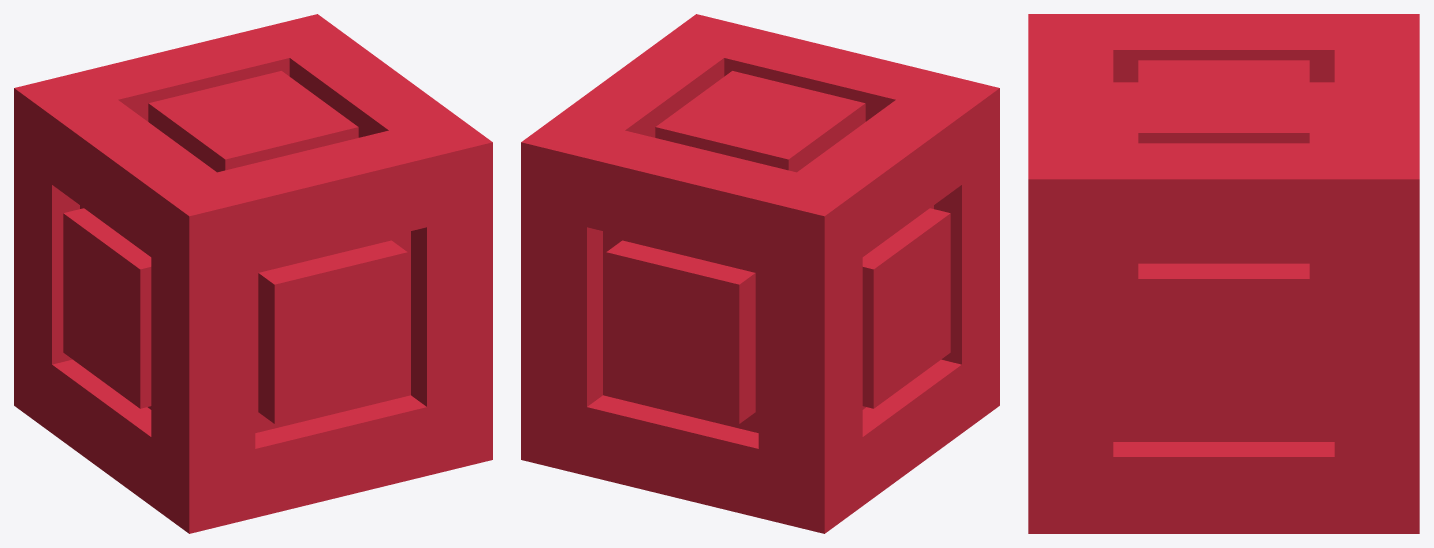
File: player_box.glb
The picture shows the model from 3 angles, left to right: view 1: azimuth 30°, elevation 25°; view 2: azimuth 150°, elevation 25°; view 3: azimuth 270°, elevation 25°; orthographic projection. The views are drawn at different scales.
Parts seen in each view (by area): view 1: Cube; view 2: Cube; view 3: Cube.
Boxes of the visible parts, x1,y1,x2,y2 form: Cube: (14,14,492,533); Cube: (521,14,999,533); Cube: (1028,14,1419,533).
Size of the model in its own units: 2 by 2 by 2.
